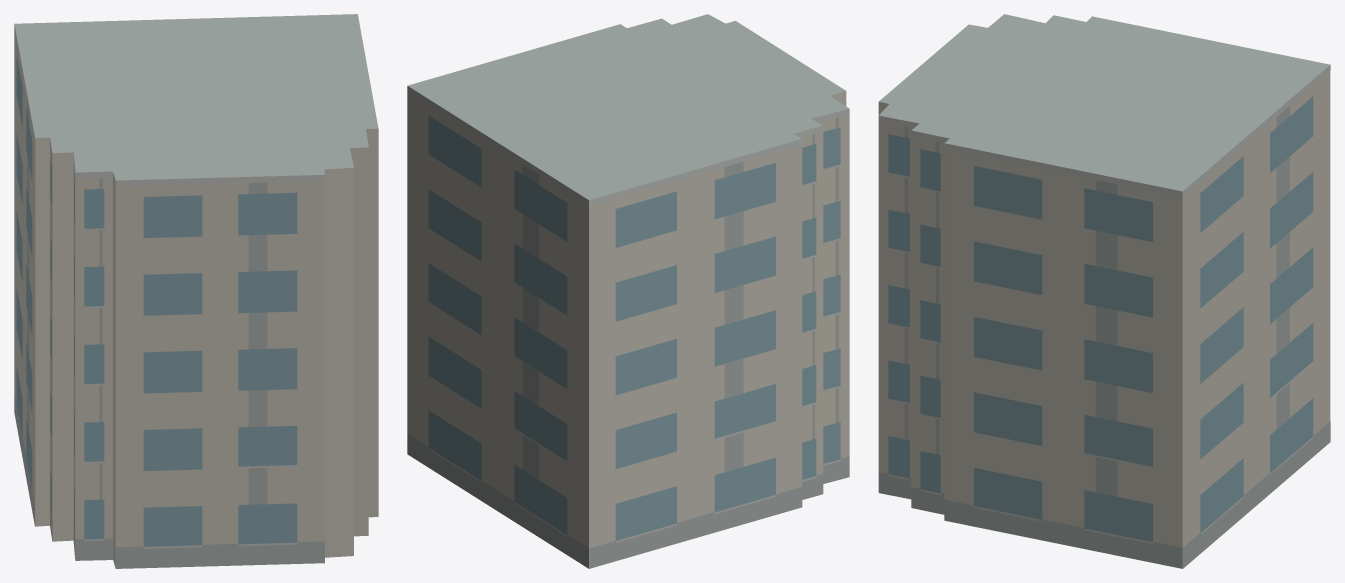
The model's file is survey-upis-32722373.glb.
3 views of the same model, side by side, from view 1: azimuth 30°, elevation 25°; view 2: azimuth 150°, elevation 25°; view 3: azimuth 270°, elevation 25° (orthographic). The views are drawn at different scales.
Parts seen in each view (by area): view 1: survey-upis-32722373.tmp; view 2: survey-upis-32722373.tmp; view 3: survey-upis-32722373.tmp.
Boxes of the visible parts, box(x1,y1,x2,y2) form: survey-upis-32722373.tmp: box(14, 14, 378, 568); survey-upis-32722373.tmp: box(407, 14, 849, 568); survey-upis-32722373.tmp: box(878, 14, 1330, 568).
Size of the model in its own units: 15.39 by 15.25 by 16.56.
